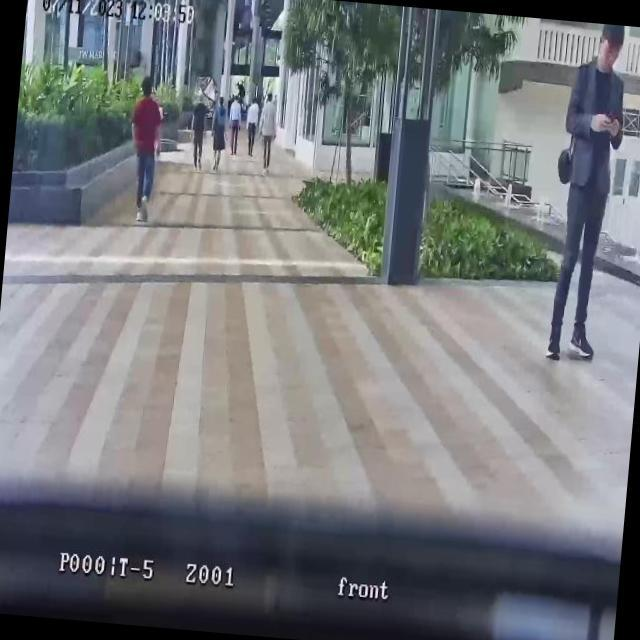person: (542, 21, 632, 365), (121, 74, 167, 224), (256, 90, 280, 174), (186, 94, 210, 171), (208, 95, 230, 172), (242, 94, 260, 157), (225, 94, 242, 156)
